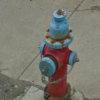Hydrant: (31, 5, 81, 96)
